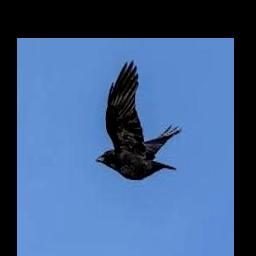Crow: (96, 60, 181, 179)
